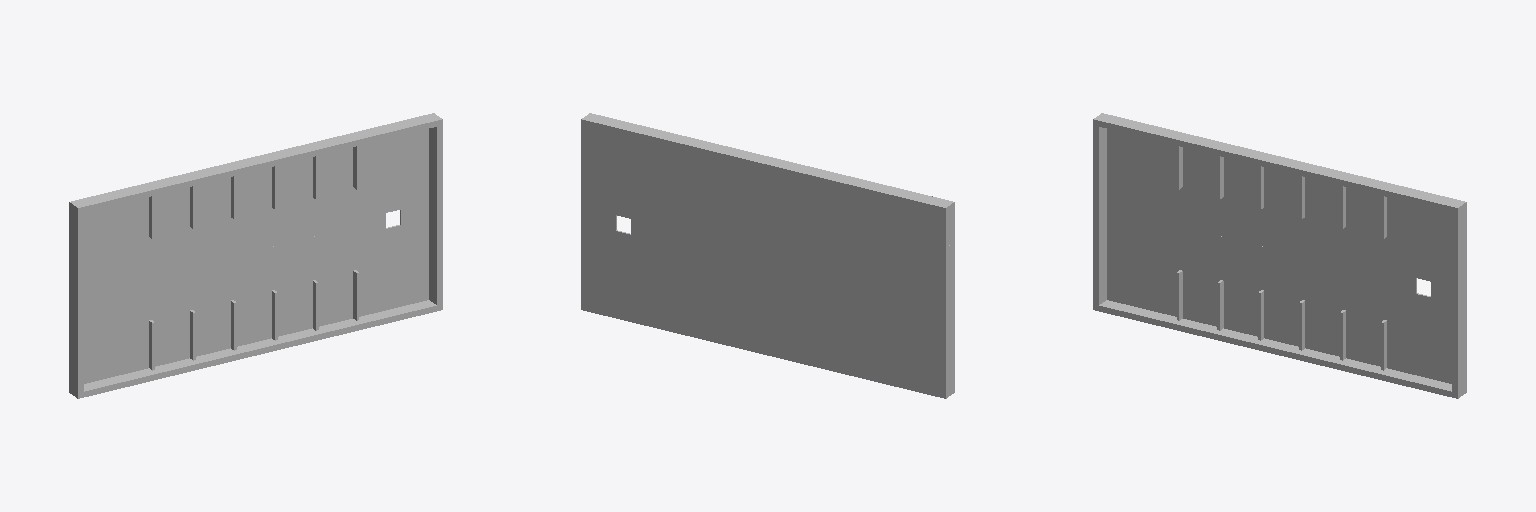
The model's file is ArenaLayout.obj.
3 views of the same model, side by side, from view 1: azimuth 30°, elevation 25°; view 2: azimuth 150°, elevation 25°; view 3: azimuth 330°, elevation 25° (orthographic).
Visible parts, largest first — view 1: OpenSCAD_Model; view 2: OpenSCAD_Model; view 3: OpenSCAD_Model.
Part boxes in pixels (left/top/right/bottom): OpenSCAD_Model: left=69, top=113, right=442, bottom=398; OpenSCAD_Model: left=581, top=113, right=954, bottom=398; OpenSCAD_Model: left=1093, top=113, right=1466, bottom=398.
Bounding box in the file's own units: 2438 × 1219 × 101.